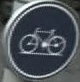bike lane: (4, 3, 75, 73)
